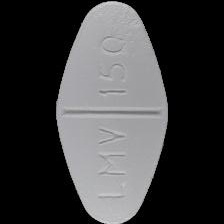53808-0843: (0, 0, 224, 224)
